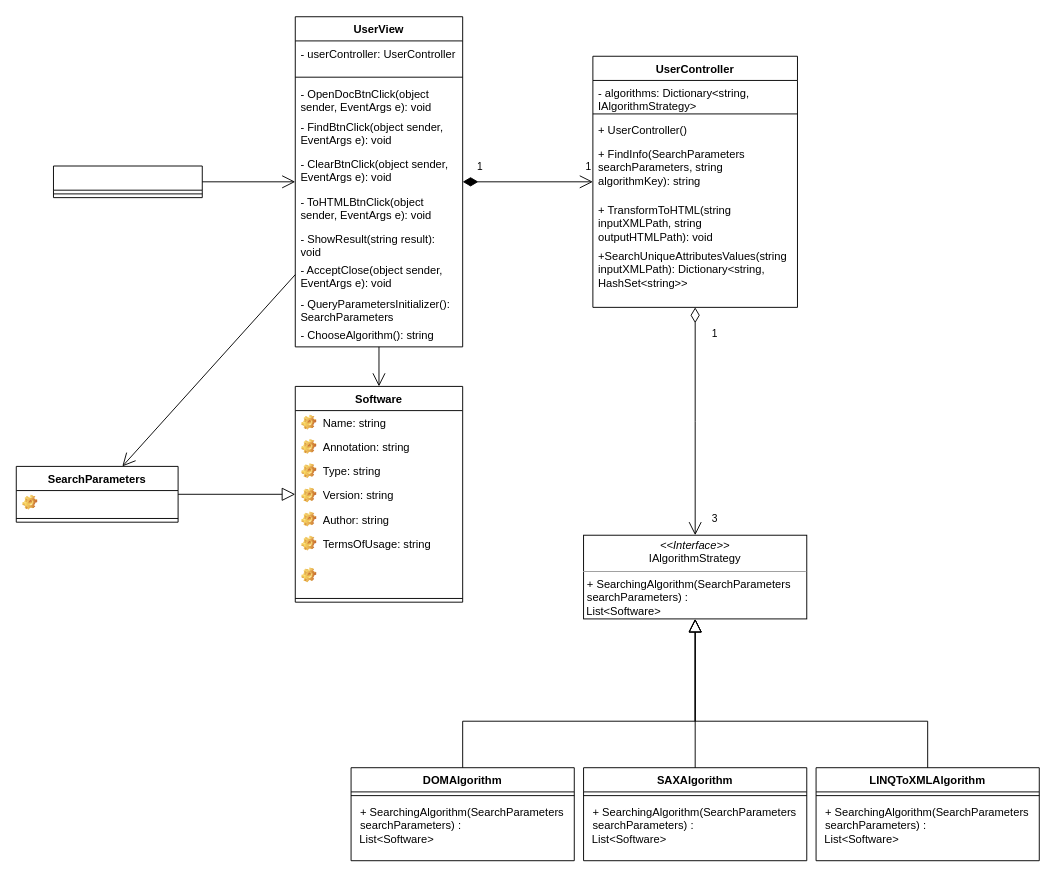
Some shapes in this 1056 by 879 pixel diagram are drawn without their labels. Each missing label, with the centre of its shape:
"DistributiveLocation: string" goes at [378,574].
"InputXMLPath: string" goes at [97,502].
"User" goes at [127,181].
